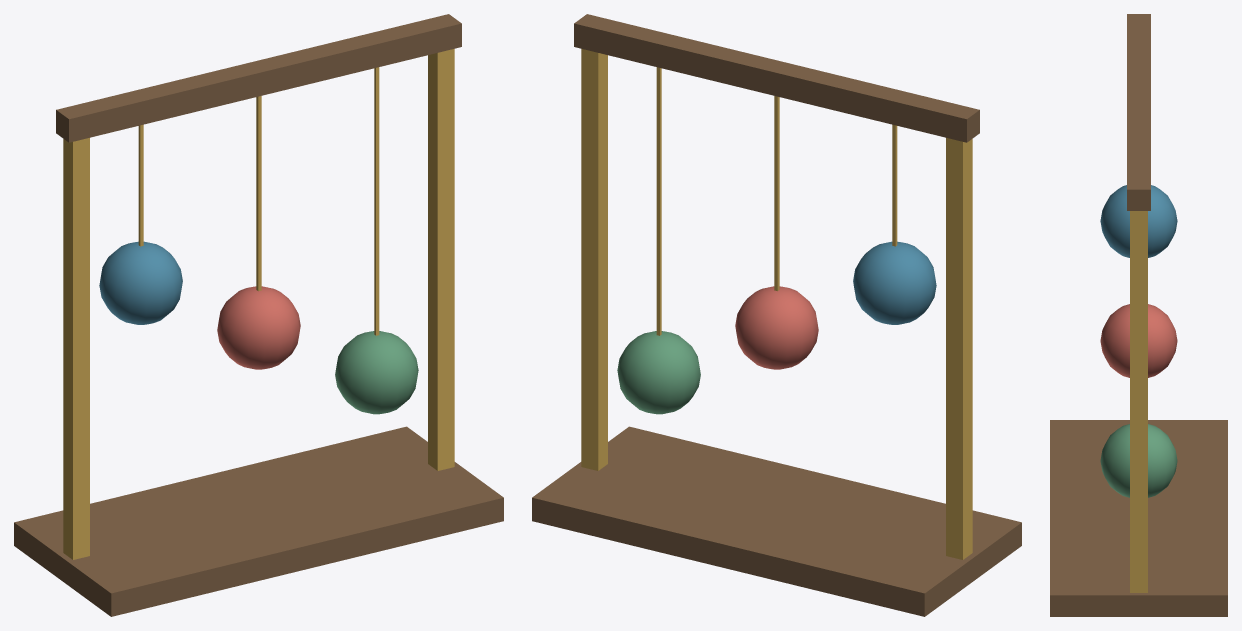
3 views of the same model, side by side, from view 1: azimuth 30°, elevation 25°; view 2: azimuth 150°, elevation 25°; view 3: azimuth 270°, elevation 25° (orthographic). The views are drawn at different scales.
Size of the model in its own units: 1.4 by 1.59 by 0.6.
